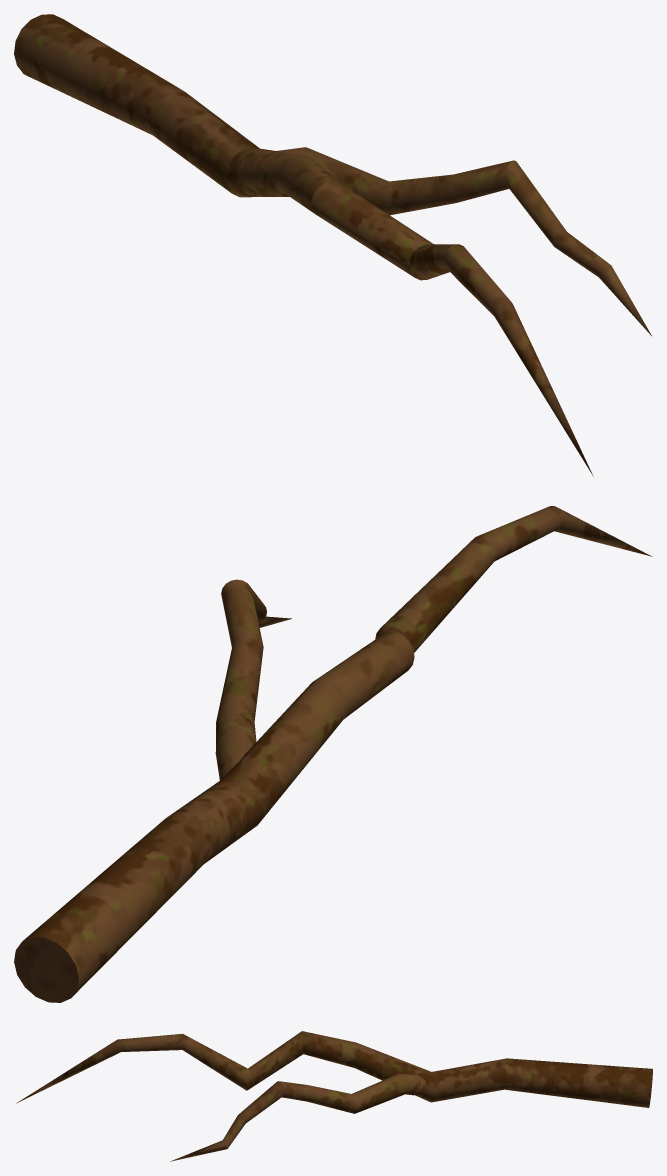
The model's file is Sm_Branches6.fbx.
3 renders of one model, top to bottom at view 1: azimuth 30°, elevation 25°; view 2: azimuth 150°, elevation 25°; view 3: azimuth 270°, elevation 25°, orthographic. The views are drawn at different scales.
Visible parts, largest first — view 1: Sm_Branches6; view 2: Sm_Branches6; view 3: Sm_Branches6.
Part boxes in pixels (box(x1,y1,x2,y2)): Sm_Branches6: box(14, 14, 651, 476); Sm_Branches6: box(14, 506, 652, 1002); Sm_Branches6: box(16, 1031, 652, 1161).
Bounding box in the file's own units: 42.33 × 22.39 × 173.
